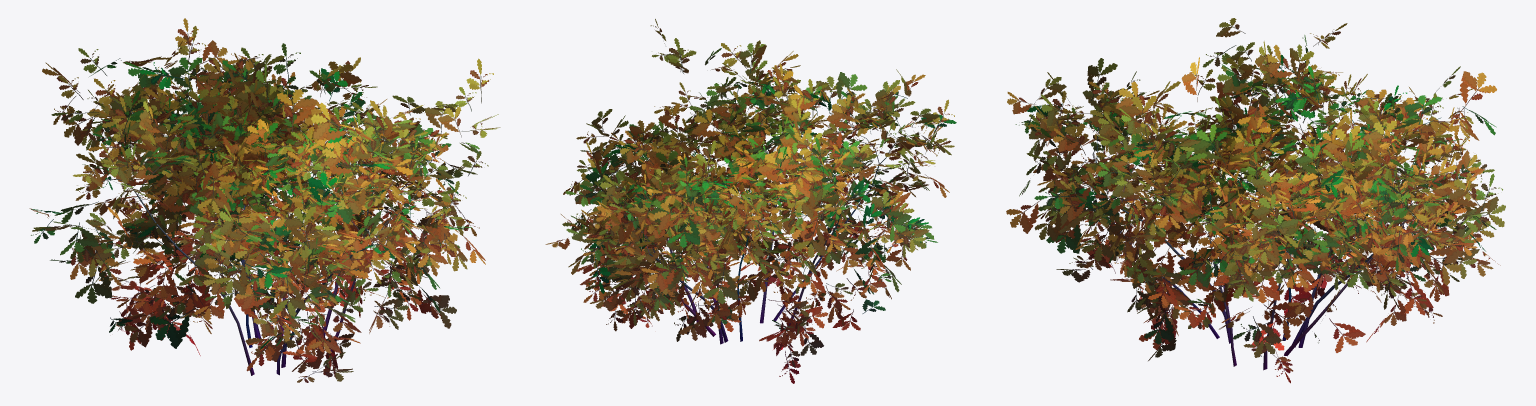
3 views of the same model, side by side, from view 1: azimuth 30°, elevation 25°; view 2: azimuth 150°, elevation 25°; view 3: azimuth 270°, elevation 25° (orthographic). The views are drawn at different scales.
Parts seen in each view (by area): view 1: gambel_oak_LOD1; view 2: gambel_oak_LOD1; view 3: gambel_oak_LOD1.
Part boxes in pixels (left/top/right/bottom): gambel_oak_LOD1: left=29, top=18, right=500, bottom=382; gambel_oak_LOD1: left=545, top=19, right=956, bottom=383; gambel_oak_LOD1: left=1006, top=18, right=1505, bottom=383.
Size of the model in its own units: 5.69 by 3.6 by 5.91.
2 materials, 2 textured.
